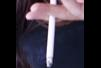Cigarette: (46, 0, 57, 66)
